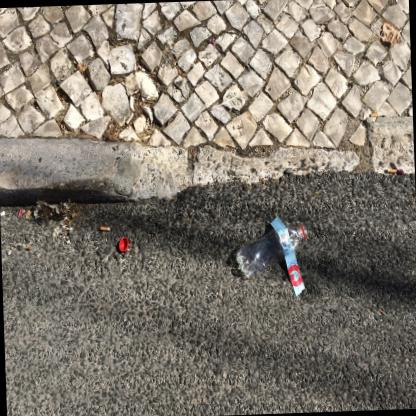Paper: (270, 216, 305, 296), (130, 89, 139, 94), (100, 226, 111, 230), (387, 168, 397, 172), (371, 113, 380, 116)
Plastic: (236, 223, 308, 278), (119, 236, 129, 250)
